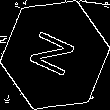N_SE: (26, 27, 84, 83)
